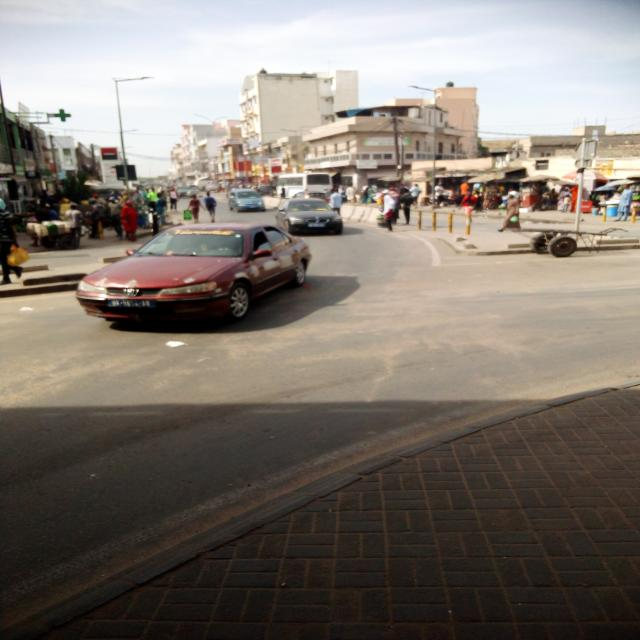bus tata: (278, 174, 333, 199)
particulier: (78, 224, 313, 321), (276, 200, 344, 235), (229, 190, 266, 212)
pousse pousse: (516, 229, 623, 259)
